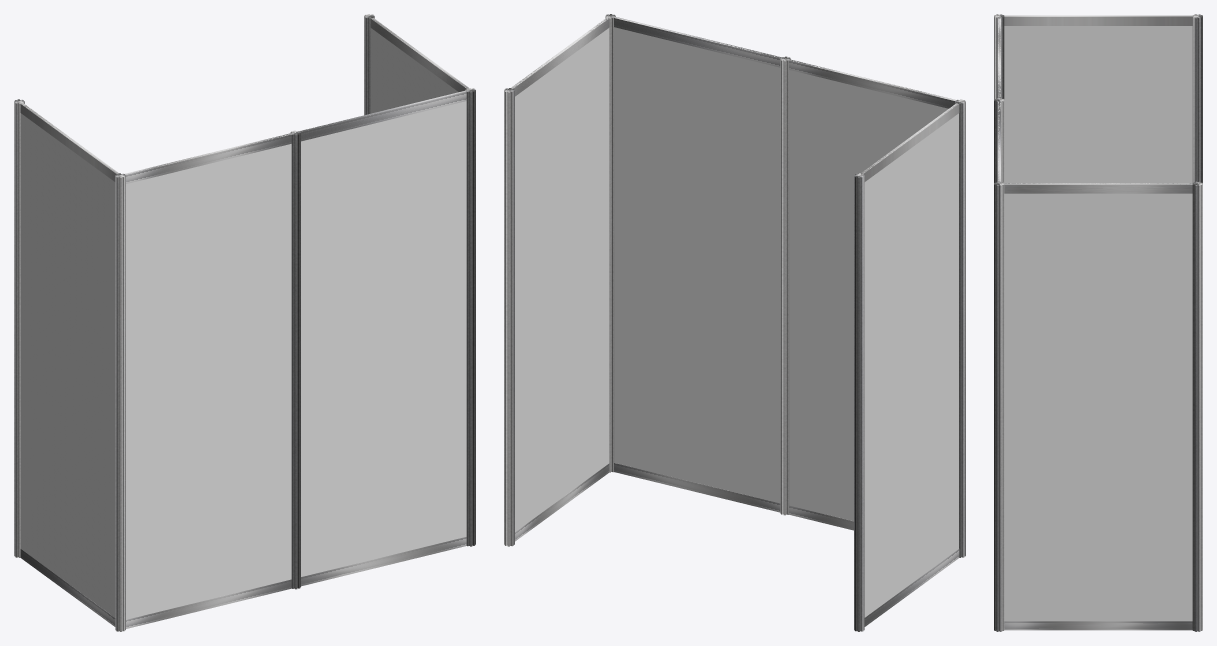
Rendered from Stand_Blanco.obj.
The picture shows the model from 3 angles, left to right: view 1: azimuth 30°, elevation 25°; view 2: azimuth 150°, elevation 25°; view 3: azimuth 270°, elevation 25°; orthographic projection.
Parts seen in each view (by area): view 1: Box001, Box002, Box004, Circle003, Circle001, Circle002, Box003, Circle005, Refuerzo003, Refuerzo004, Refuerzo001, Refuerzo002 (+4 smaller); view 2: Box002, Box003, Box004, Box001, Circle004, Circle005, Circle001, Circle003, Circle002, Refuerzo003, Refuerzo004, Refuerzo002 (+5 smaller); view 3: Box003, Box004, Circle002, Circle004, Refuerzo005, Refuerzo006, Refuerzo008, Circle005, Circle003, Circle001, Refuerzo003, Refuerzo004.
Part boxes in pixels (left/top/right/bottom): Box001: left=124, top=134, right=291, bottom=619; Box002: left=299, top=98, right=466, bottom=576; Box004: left=21, top=103, right=115, bottom=617; Circle003: left=115, top=173, right=125, bottom=631; Circle001: left=290, top=130, right=300, bottom=589; Circle002: left=465, top=88, right=475, bottom=546; Box003: left=370, top=19, right=468, bottom=113; Circle005: left=14, top=99, right=24, bottom=557; Refuerzo003: left=299, top=91, right=466, bottom=141; Refuerzo004: left=124, top=133, right=291, bottom=183; Refuerzo001: left=126, top=579, right=291, bottom=628; Refuerzo002: left=301, top=537, right=466, bottom=586; Box002: left=614, top=17, right=781, bottom=503; Box003: left=511, top=18, right=609, bottom=531; Box004: left=863, top=103, right=958, bottom=617; Box001: left=789, top=60, right=956, bottom=521; Circle004: left=504, top=88, right=514, bottom=546; Circle005: left=854, top=173, right=864, bottom=631; Circle001: left=780, top=56, right=790, bottom=515; Circle003: left=955, top=99, right=965, bottom=557; Circle002: left=605, top=14, right=615, bottom=472; Refuerzo003: left=614, top=17, right=781, bottom=67; Refuerzo004: left=789, top=59, right=956, bottom=108; Refuerzo002: left=614, top=463, right=780, bottom=512; Box003: left=1004, top=183, right=1192, bottom=621; Box004: left=1004, top=26, right=1192, bottom=183; Circle002: left=994, top=181, right=1004, bottom=631; Circle004: left=1192, top=181, right=1202, bottom=631; Refuerzo005: left=1004, top=15, right=1192, bottom=25; Refuerzo006: left=1004, top=183, right=1192, bottom=193; Refuerzo008: left=1004, top=621, right=1192, bottom=630; Circle005: left=1192, top=14, right=1202, bottom=182; Circle003: left=994, top=14, right=1004, bottom=98; Circle001: left=994, top=98, right=1004, bottom=182; Refuerzo003: left=997, top=102, right=1000, bottom=182; Refuerzo004: left=997, top=18, right=1000, bottom=97.
Bounding box in the file's own units: 205 × 248 × 105.
Materials: 2 (2 with a texture image).
